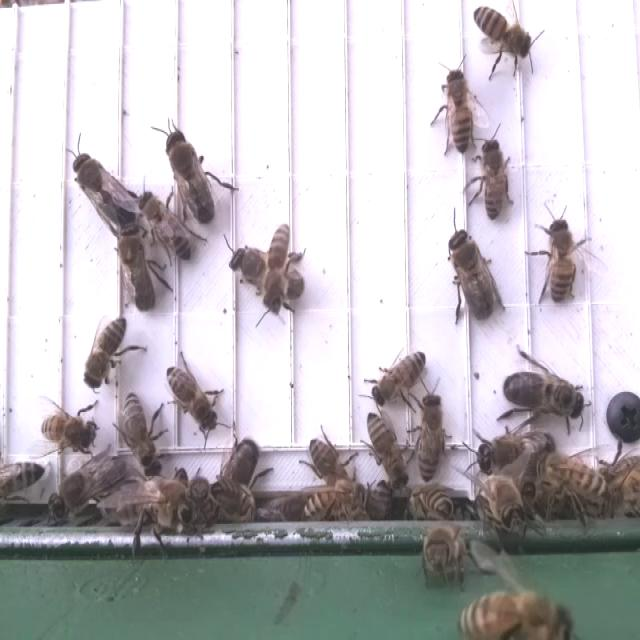Drone: (70, 149, 145, 236), (46, 447, 128, 524), (161, 117, 218, 226), (443, 225, 500, 325), (497, 367, 587, 422), (115, 219, 158, 314), (475, 429, 560, 475), (215, 433, 270, 496)
Worker: (451, 588, 580, 640), (98, 472, 198, 537), (161, 362, 224, 437), (476, 473, 531, 552), (114, 393, 167, 473), (437, 64, 480, 161), (368, 344, 433, 408), (410, 384, 451, 481), (473, 2, 536, 64), (416, 511, 468, 586), (140, 193, 197, 261), (362, 409, 412, 486), (296, 480, 369, 532), (82, 317, 132, 389), (38, 404, 102, 460), (476, 137, 518, 222), (303, 426, 355, 492), (546, 213, 580, 310), (261, 224, 295, 316)
